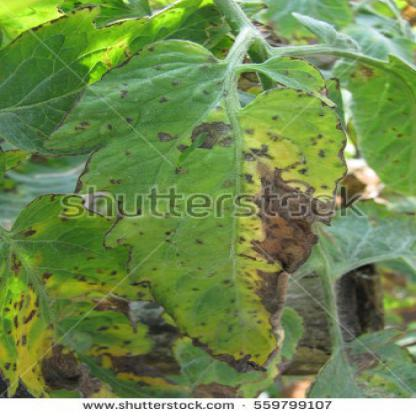tomato leaf bacterial spot: (42, 27, 347, 384), (4, 193, 187, 393)
